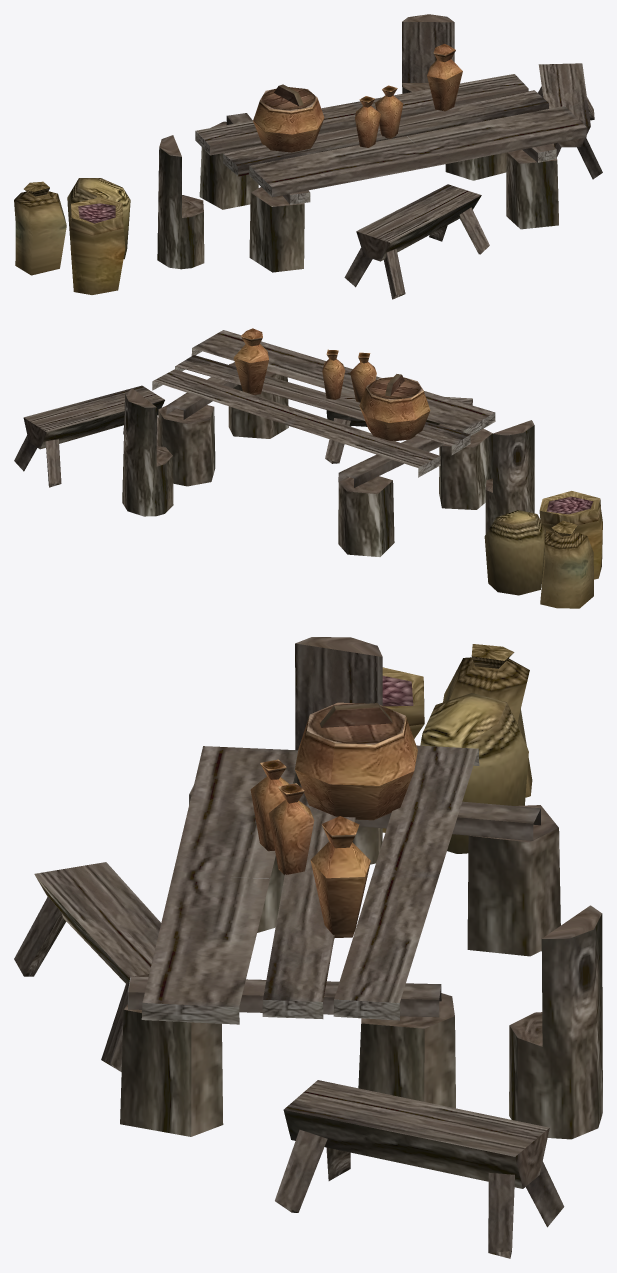
The model's file is SM_Town004_Other01.FBX.
3 renders of one model, top to bottom at view 1: azimuth 30°, elevation 25°; view 2: azimuth 150°, elevation 25°; view 3: azimuth 270°, elevation 25°, orthographic. The views are drawn at different scales.
Parts seen in each view (by area): view 1: SM_Town004_Other01; view 2: SM_Town004_Other01; view 3: SM_Town004_Other01.
Boxes of the visible parts, x1,y1,x2,y2 form: SM_Town004_Other01: (14,14,602,299); SM_Town004_Other01: (14,328,602,608); SM_Town004_Other01: (14,637,602,1258).
Size of the model in its own units: 1045 by 517 by 282.
Materials: 2 (2 with a texture image).
